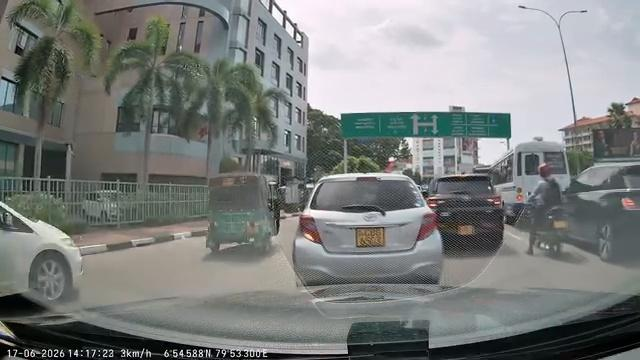number plate: (349, 223, 392, 251)
